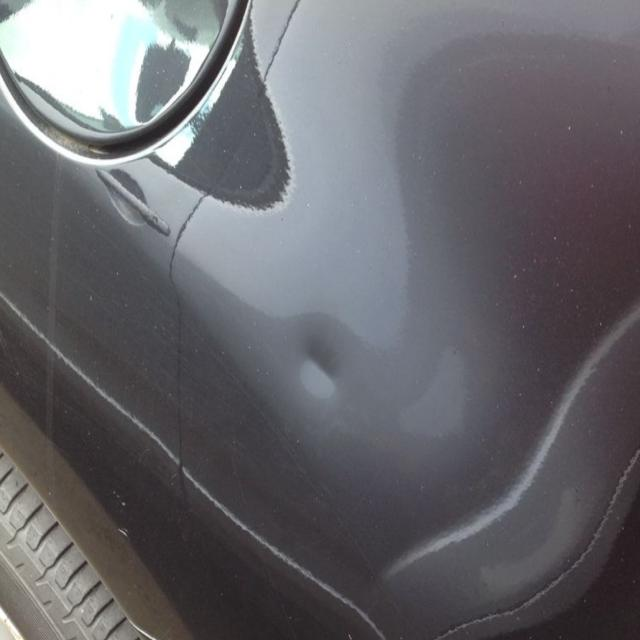dents: (292, 331, 358, 414)
